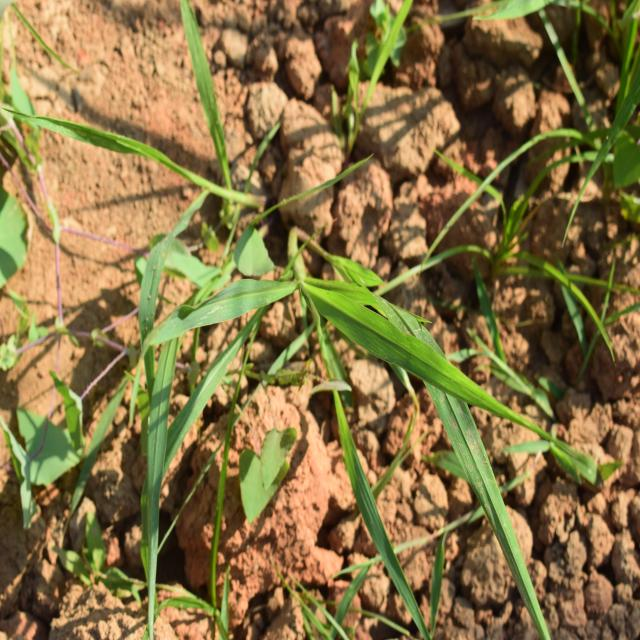green_foxtail: (120, 173, 551, 487)
